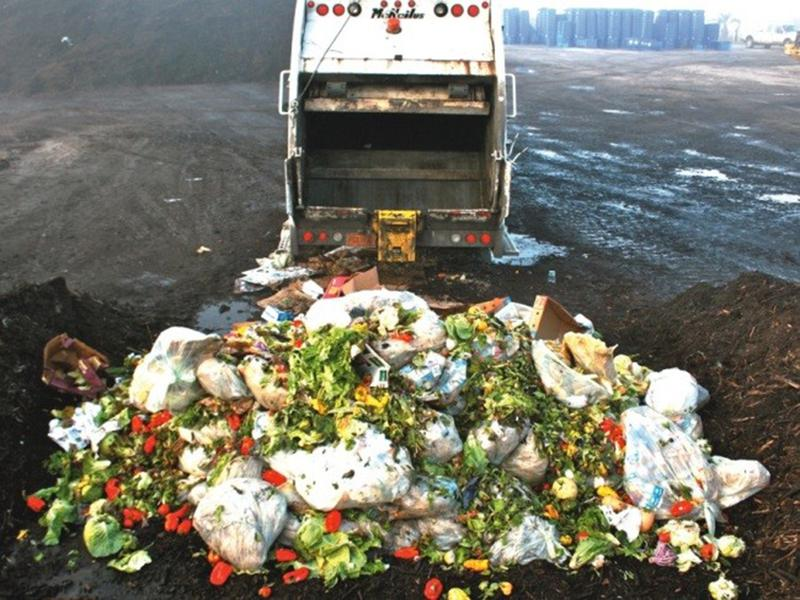vegetation: (429, 288, 770, 600), (20, 322, 251, 584), (226, 310, 428, 452)
